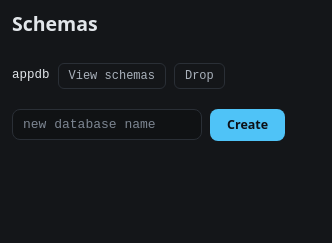
Test case: SchemaPanel postgres schemas › shows an empty state when a database has no schemas
Expected: the list item "appdb" is shown, top-left (12, 68), bottom-right (50, 82)
Click the button "View schemas": x=112, y=76 top-left (58, 63), bottom-right (166, 89)
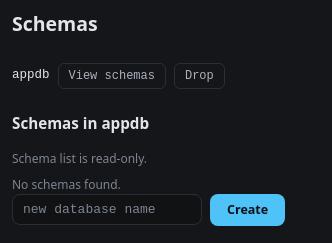
Now the text "No schemas found." is shown, box top-left (12, 176), bottom-right (121, 193)
